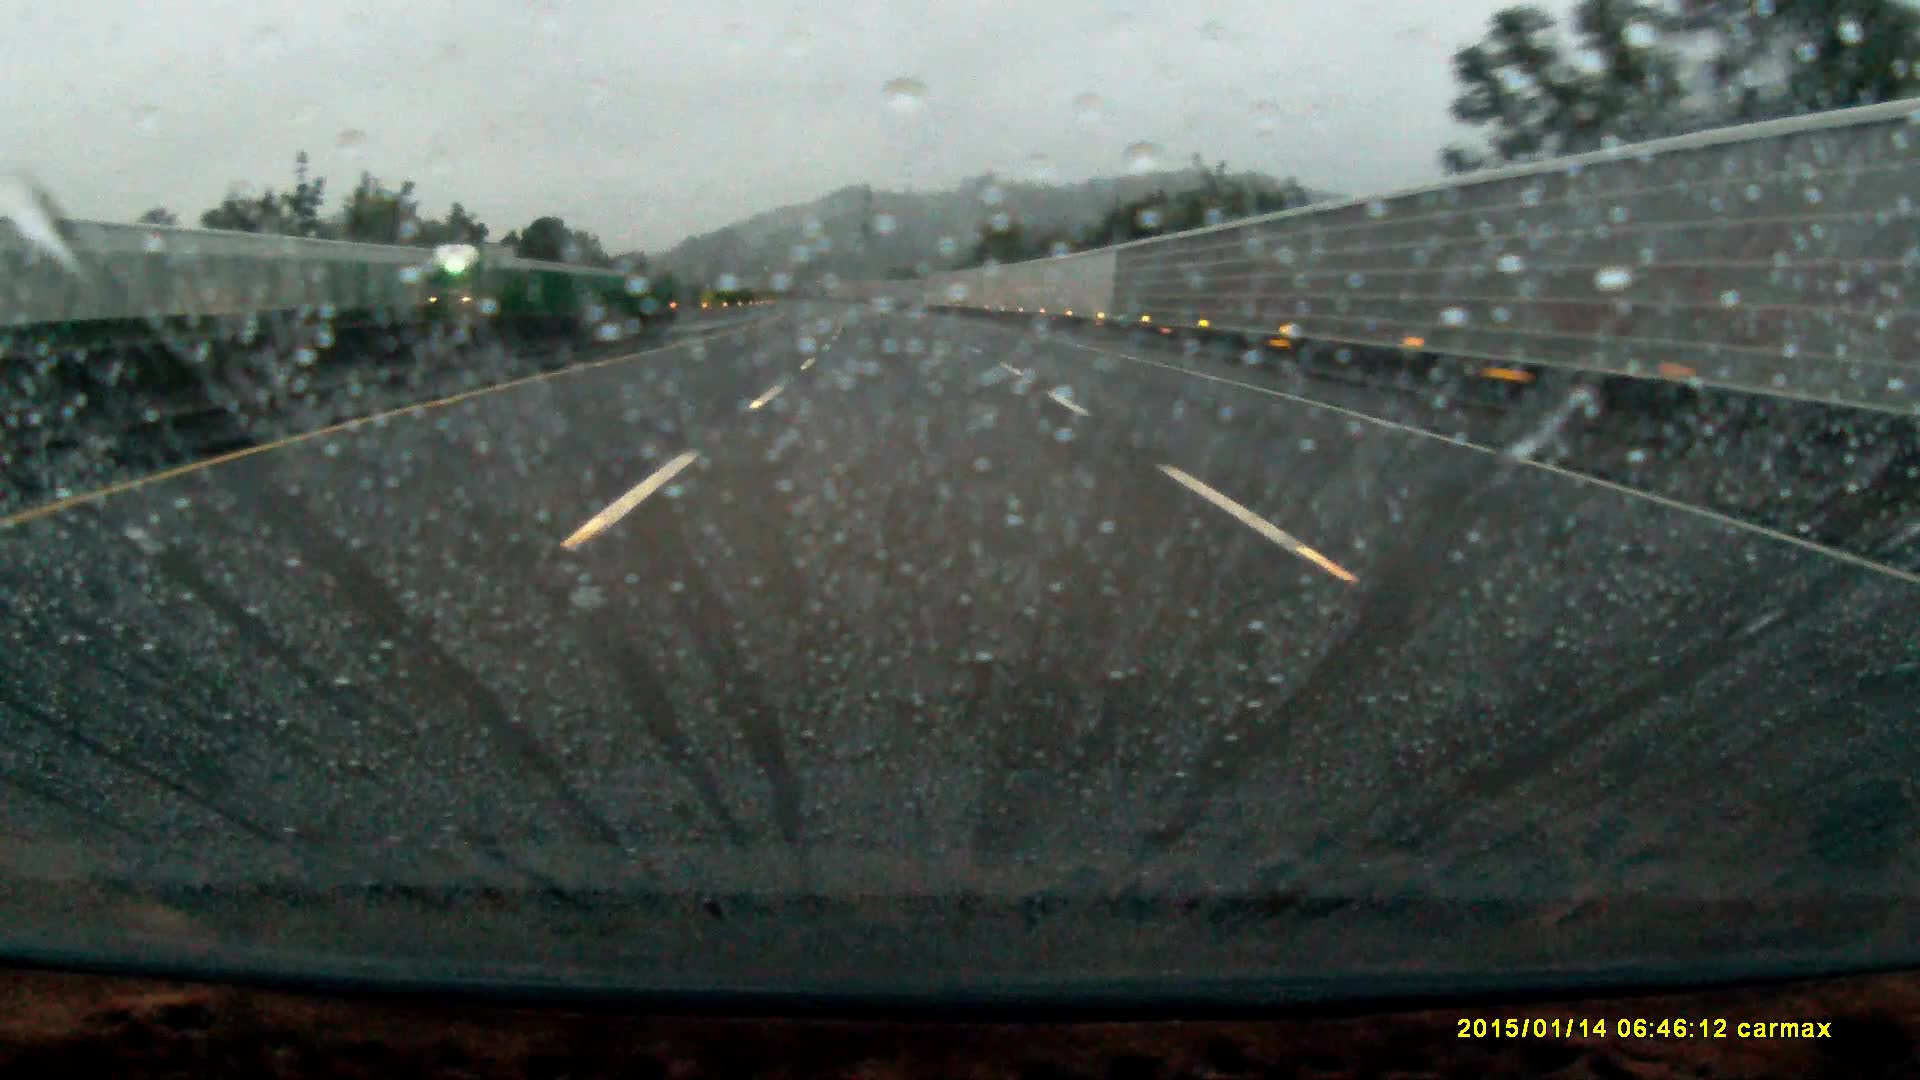vehicle: (429, 243, 517, 320)
